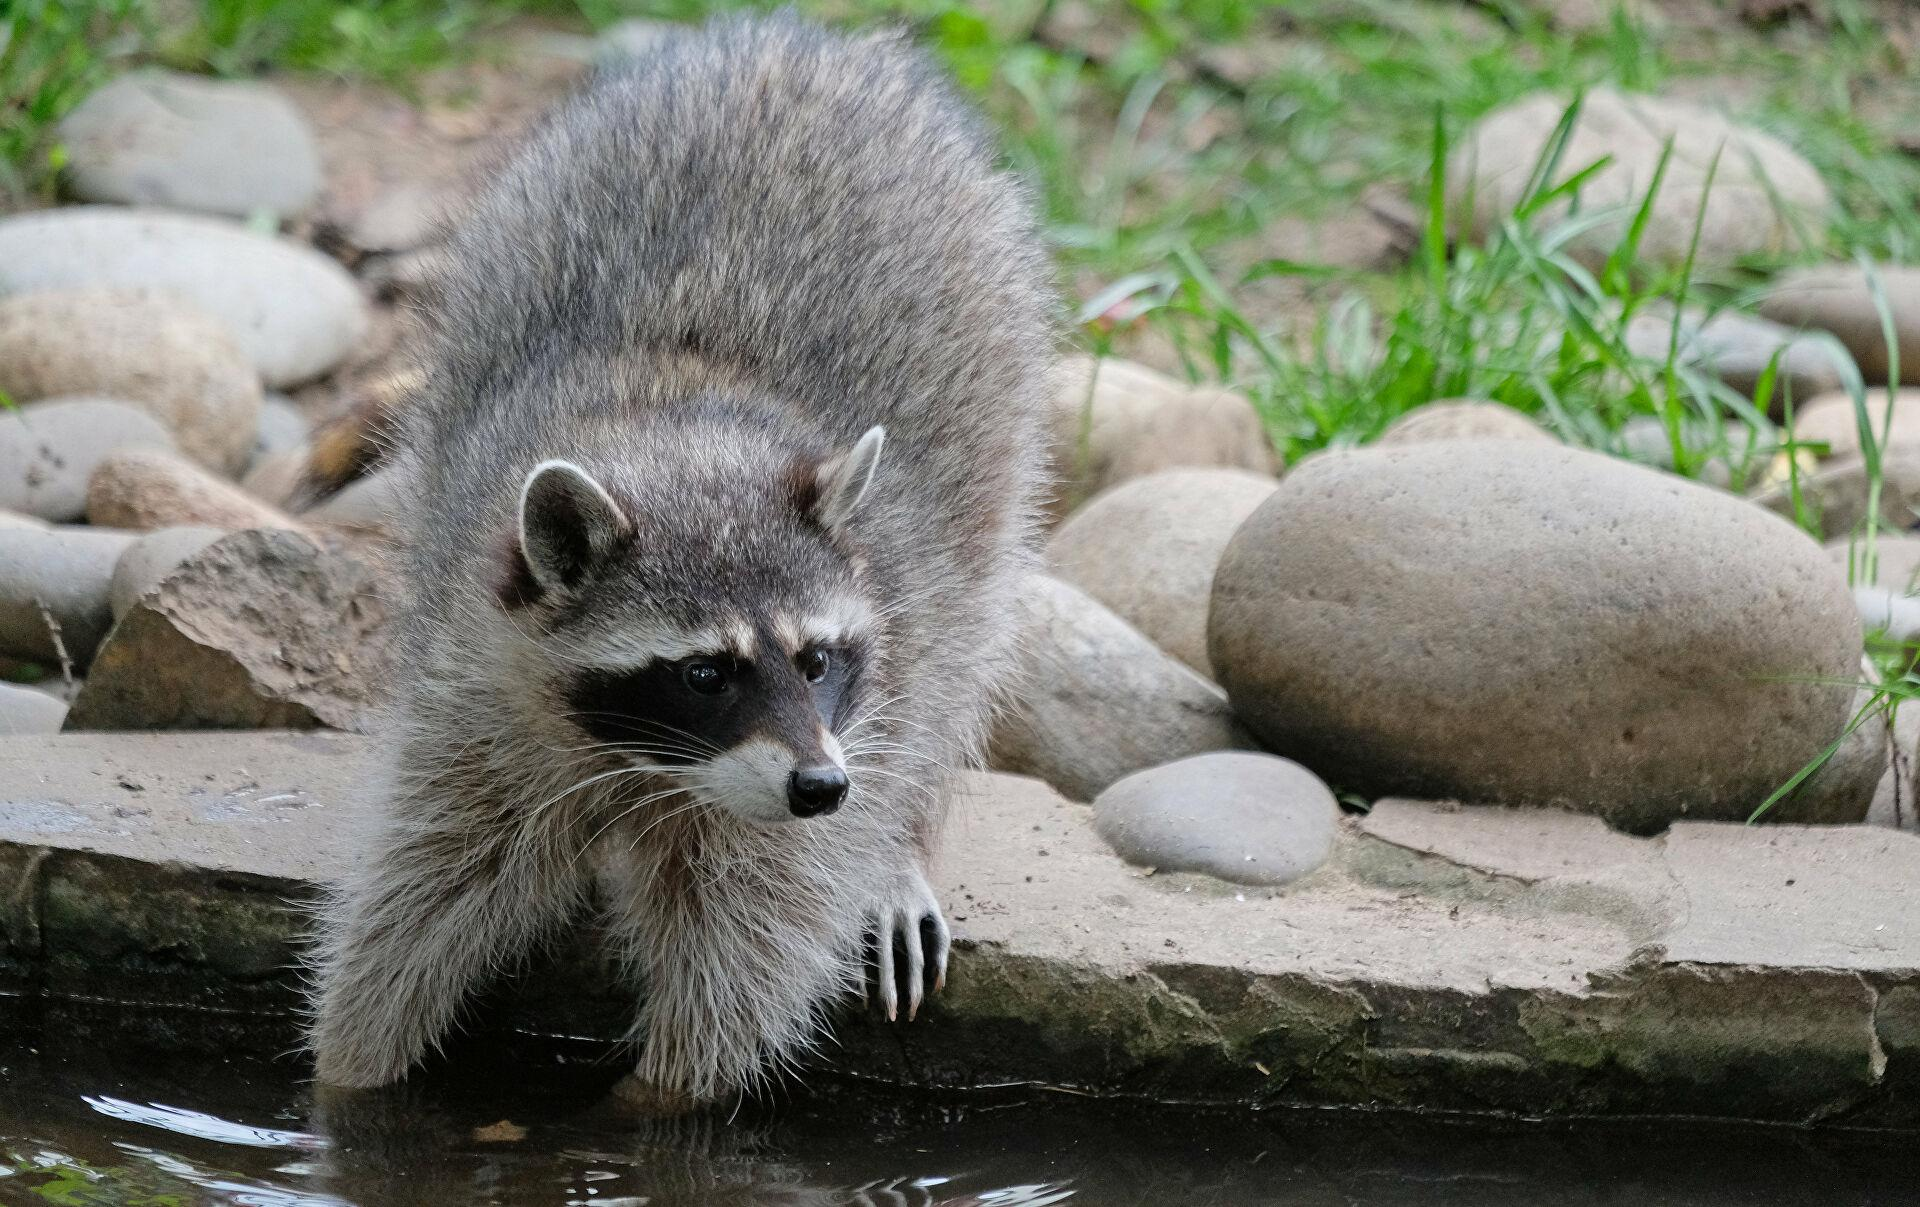raccoon: (292, 15, 1068, 1207)
